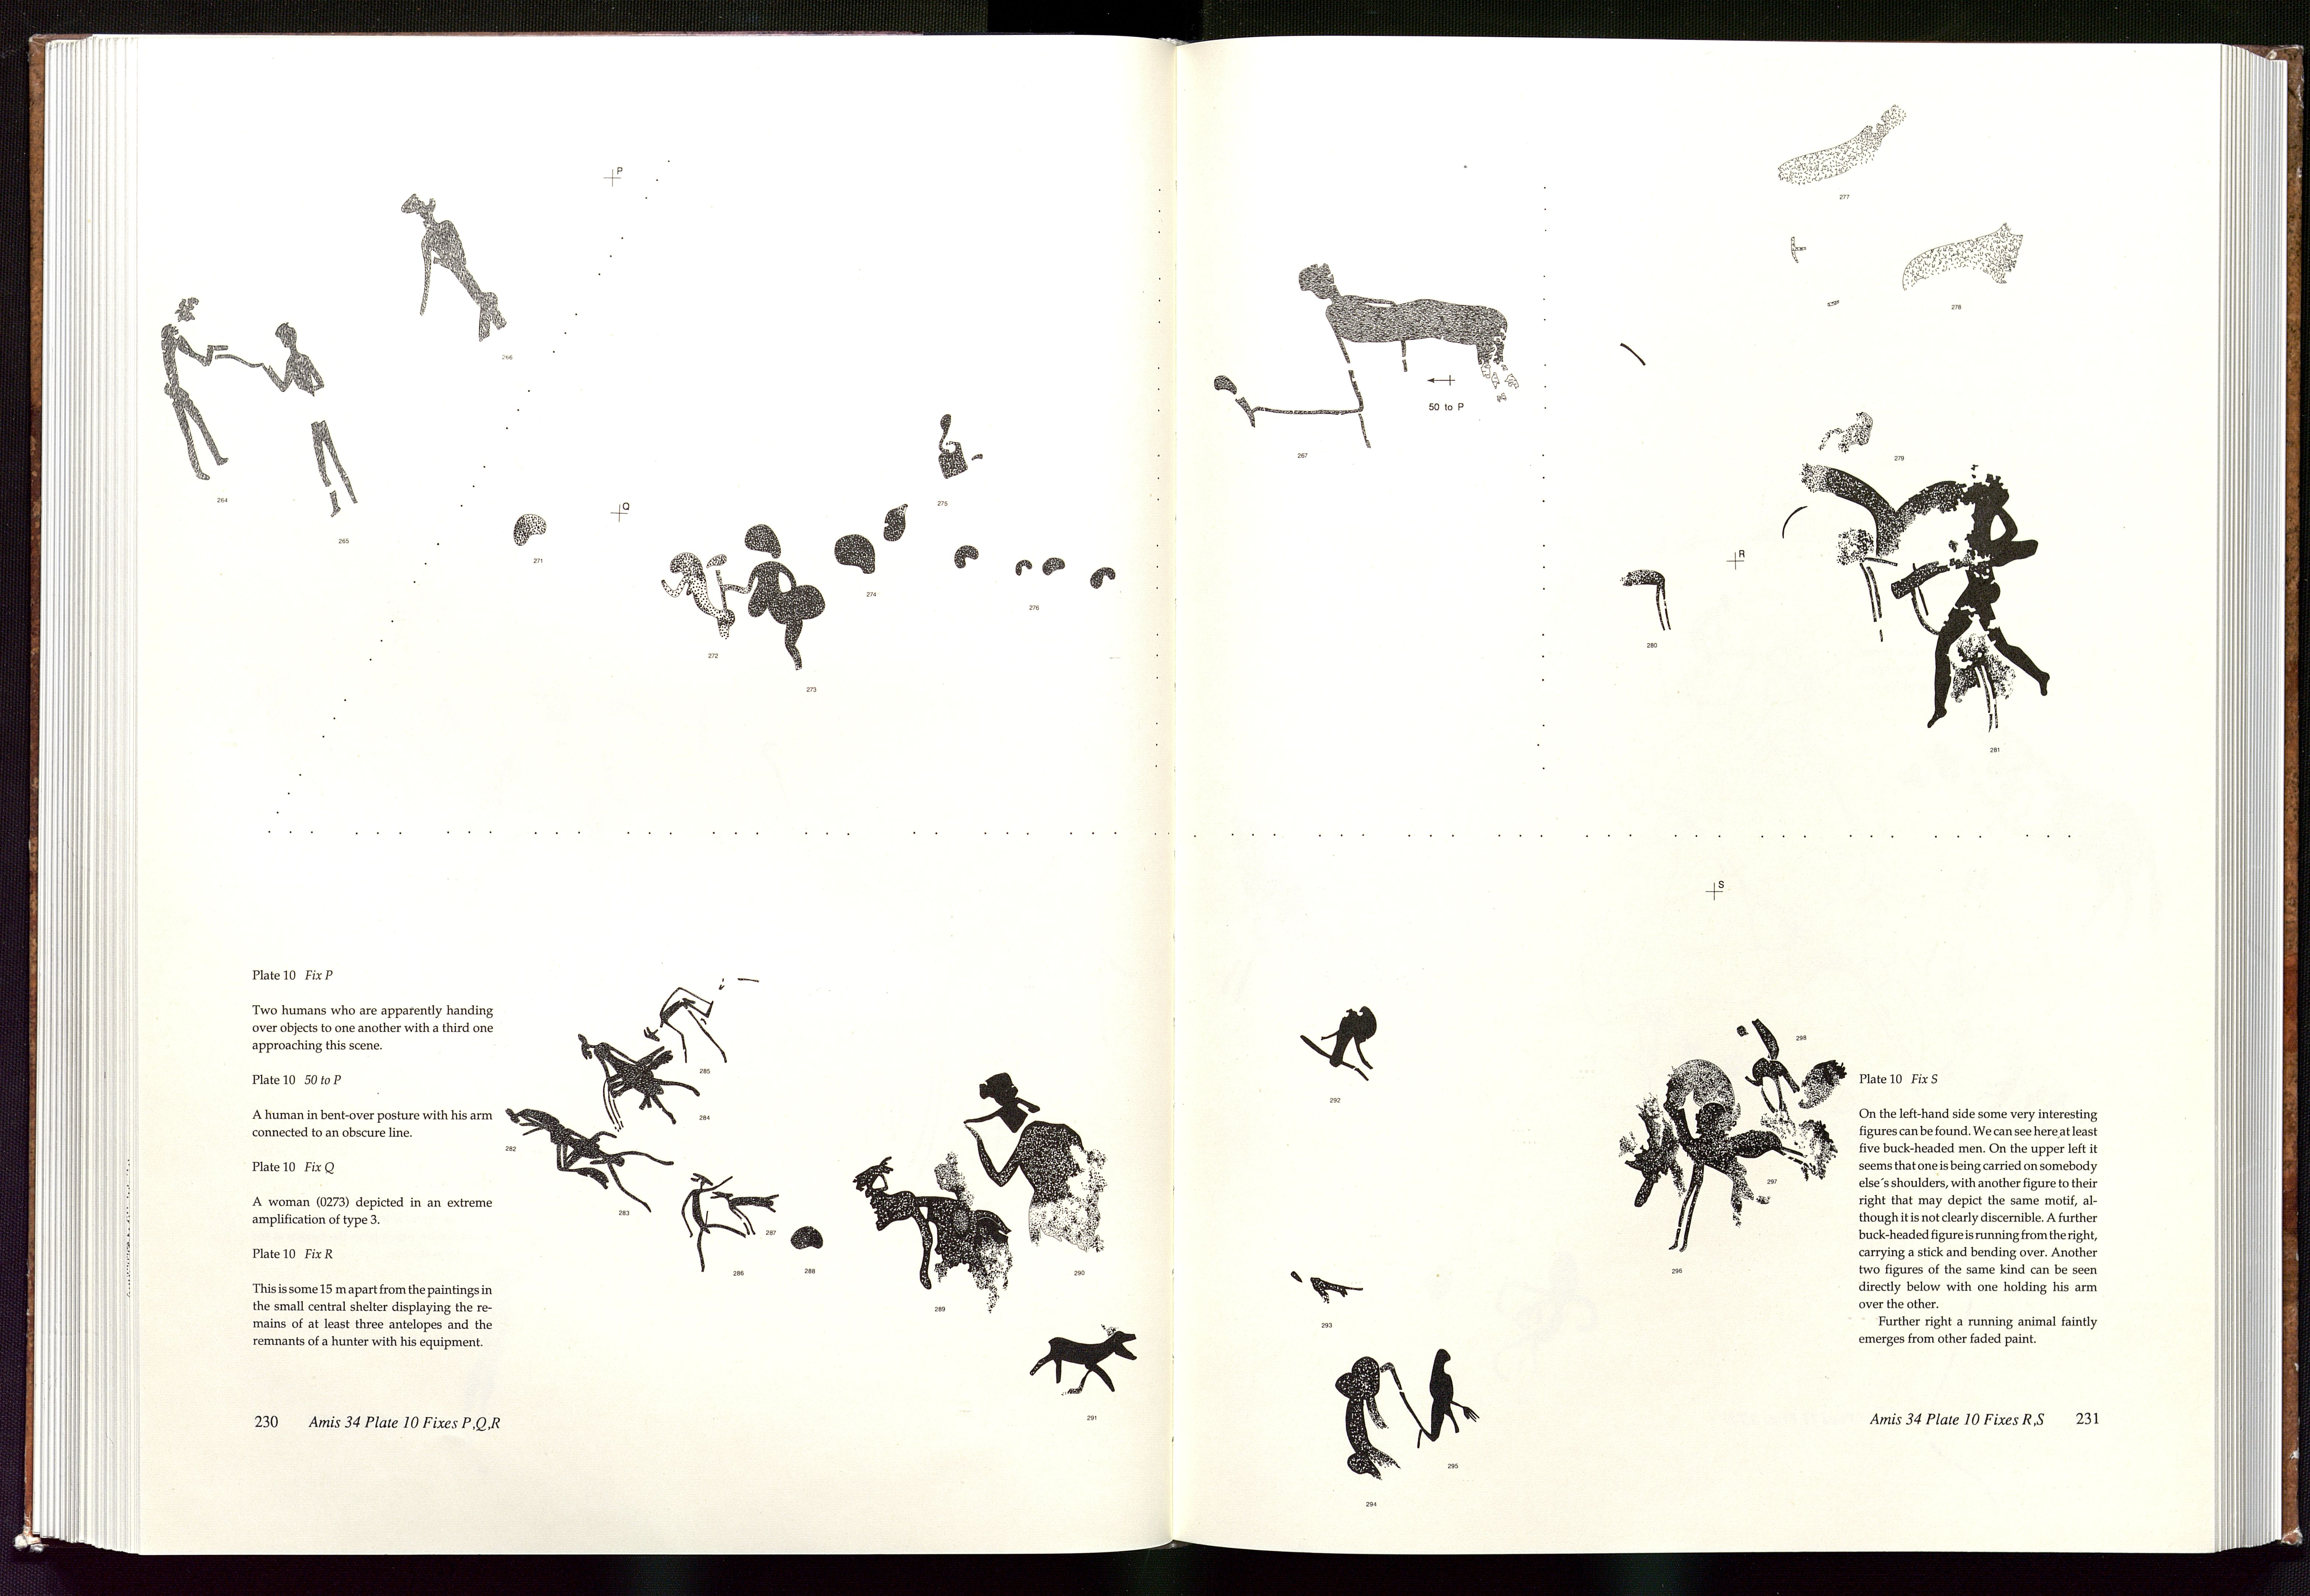human: (1303, 252, 1524, 421), (250, 318, 372, 524), (400, 187, 542, 352), (731, 519, 842, 688), (151, 296, 238, 477)
